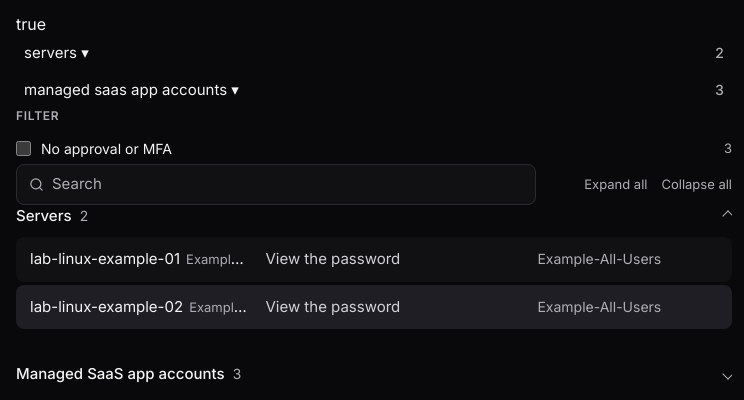
it: resource sections (GrantsMain) › search is fuzzy (typo tolerant), restripes and opens the sections with matches
Type "crm-redonly" into the search field named "Search access". click: (288, 184)
box: [52, 173, 523, 196]
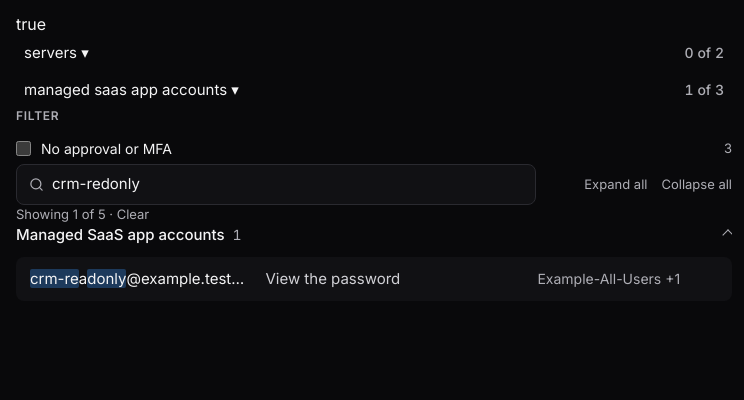
expect the list item with class "xp-row" shows "crm-readonly@example.test": met, box [16, 256, 732, 301]
